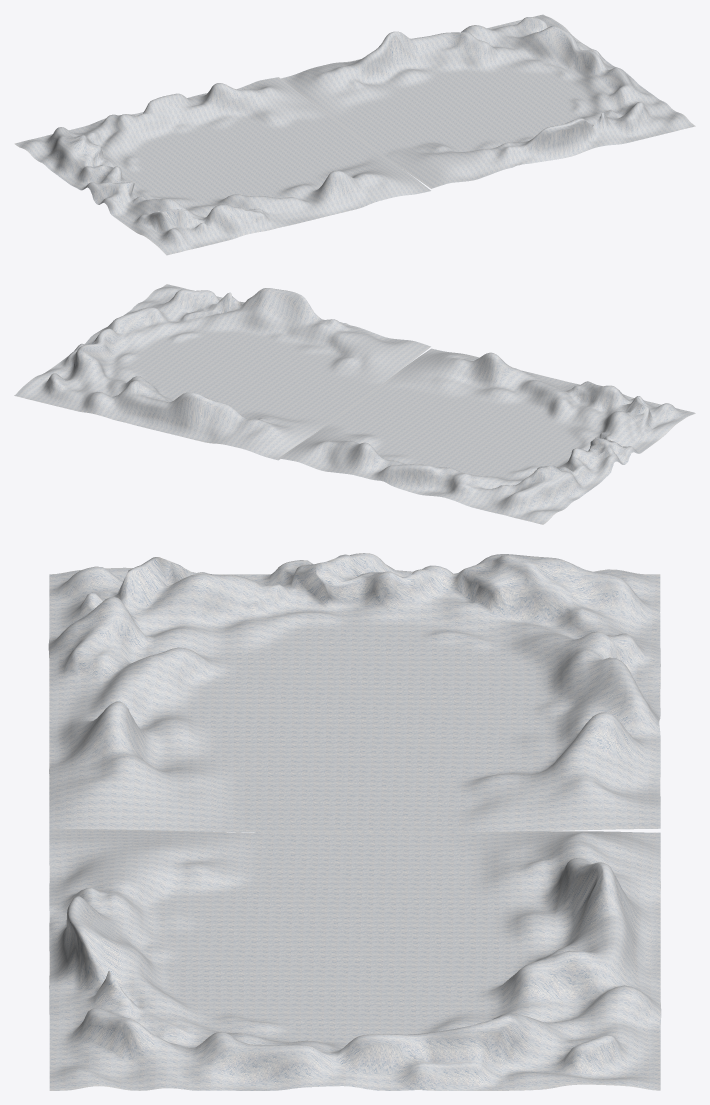
3 renders of one model, top to bottom at view 1: azimuth 30°, elevation 25°; view 2: azimuth 150°, elevation 25°; view 3: azimuth 270°, elevation 25°, orthographic. The views are drawn at different scales.
Parts seen in each view (by area): view 1: Plane.005_Plane.006, Plane; view 2: Plane.005_Plane.006, Plane; view 3: Plane, Plane.005_Plane.006.
Boxes of the visible parts, left/top/right/bottom form: Plane.005_Plane.006: left=281, top=14, right=695, bottom=188; Plane: left=14, top=77, right=430, bottom=255; Plane.005_Plane.006: left=14, top=284, right=430, bottom=460; Plane: left=279, top=348, right=695, bottom=524; Plane: left=48, top=553, right=660, bottom=832; Plane.005_Plane.006: left=49, top=828, right=661, bottom=1090.
Size of the model in its own units: 698 by 41.1 by 349.
2 materials, 2 textured.
